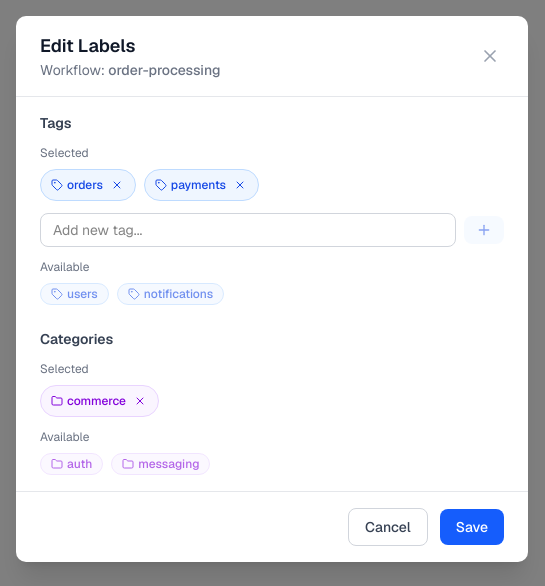
Test: LabelEditor › validation › trims whitespace from new tags
Type "  spaced-tag  " into the field with placeholder "Add new tag..." at (248, 230), box x1=40 y1=213 x2=456 y2=247
Then press Enter
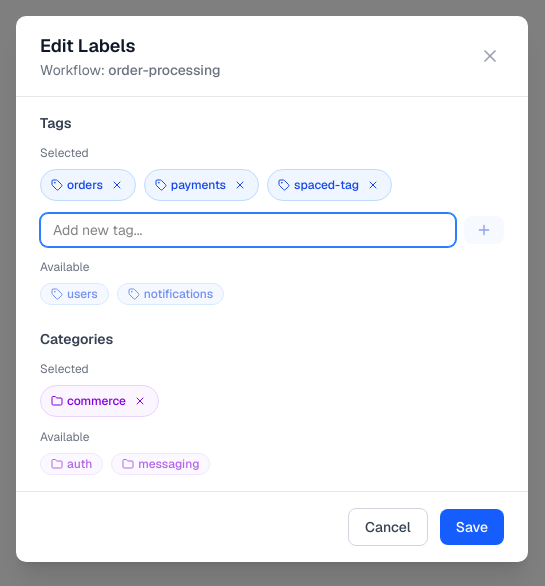
Result: the text "spaced-tag" is shown at x1=294 y1=177 x2=359 y2=193
